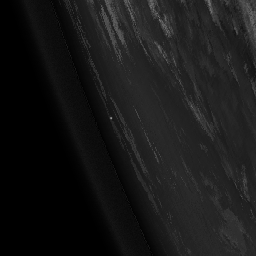Target: (108, 114, 114, 120)
